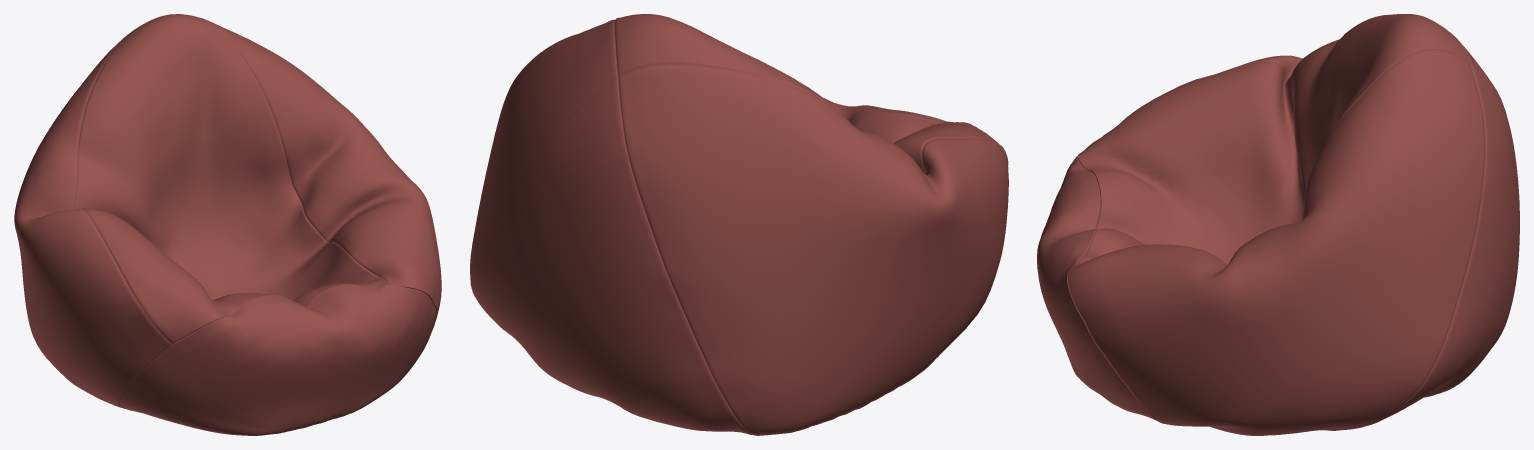
File: beanbag.glb
3 renders of one model, left to right at view 1: azimuth 30°, elevation 25°; view 2: azimuth 150°, elevation 25°; view 3: azimuth 270°, elevation 25°, orthographic. The views are drawn at different scales.
Visible parts, largest first — view 1: bean_bag_chair_mesh_n3d; view 2: bean_bag_chair_mesh_n3d; view 3: bean_bag_chair_mesh_n3d.
Boxes of the visible parts, x1,y1,x2,y2 form: bean_bag_chair_mesh_n3d: [14, 14, 441, 435]; bean_bag_chair_mesh_n3d: [470, 14, 1008, 435]; bean_bag_chair_mesh_n3d: [1037, 14, 1519, 435].
Size of the model in its own units: 1.29 by 1 by 1.3.
